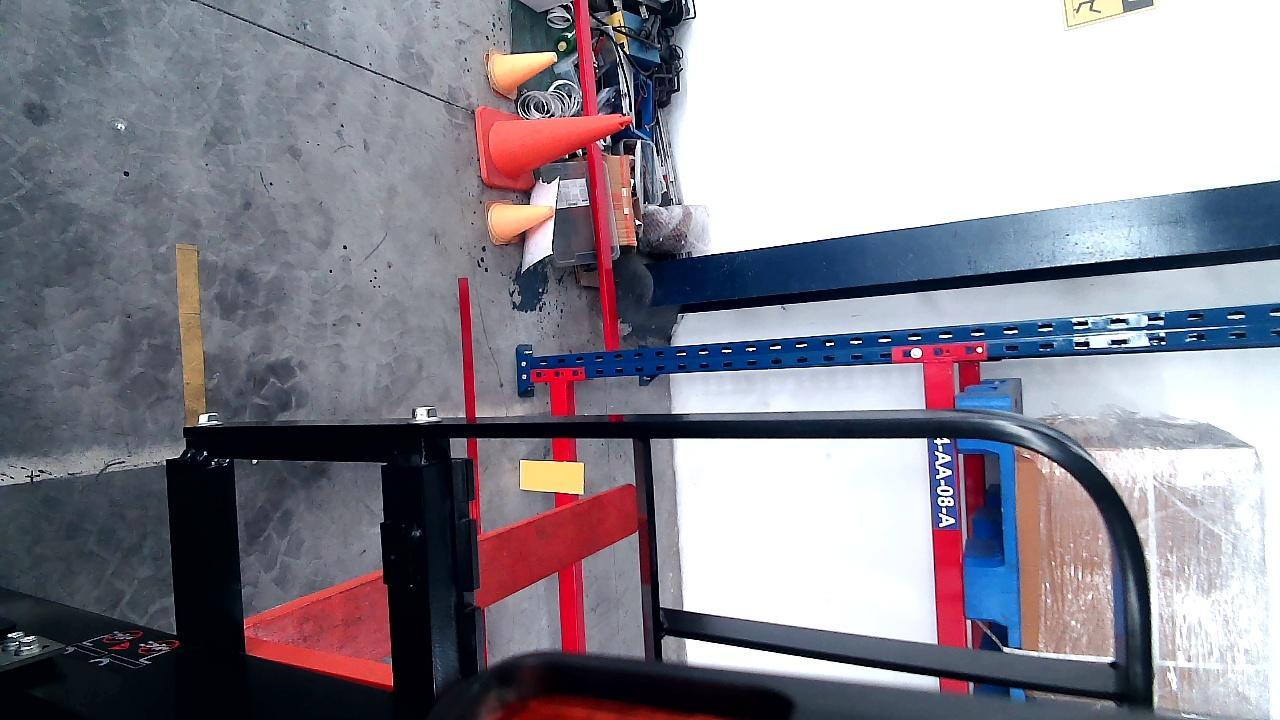red_line: (459, 280, 482, 520)
yellow_line: (178, 243, 207, 423)
